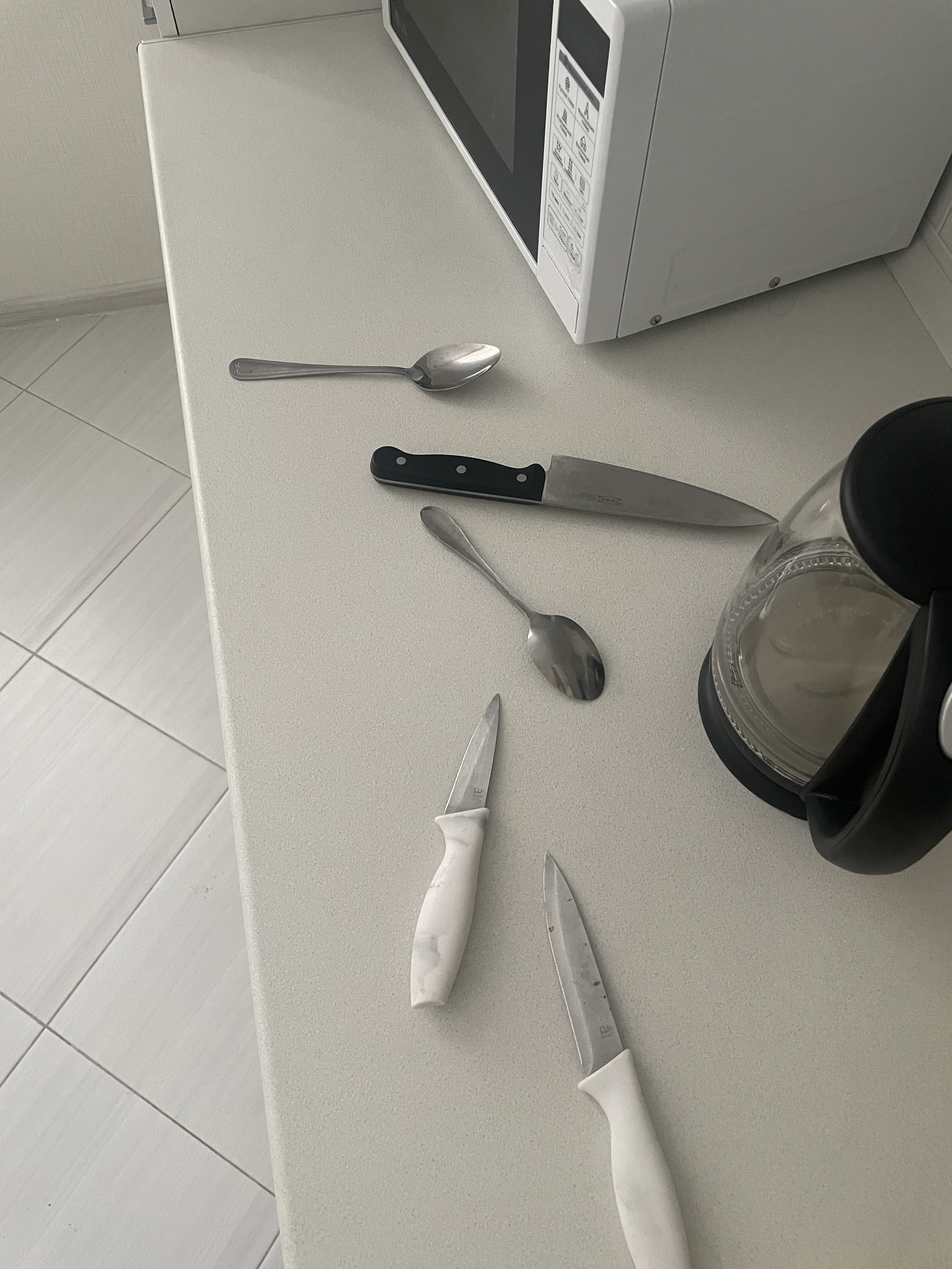knife: (544, 853, 691, 1269), (370, 446, 775, 527), (410, 695, 500, 1008)
spoon: (420, 506, 605, 701), (229, 343, 501, 391)
